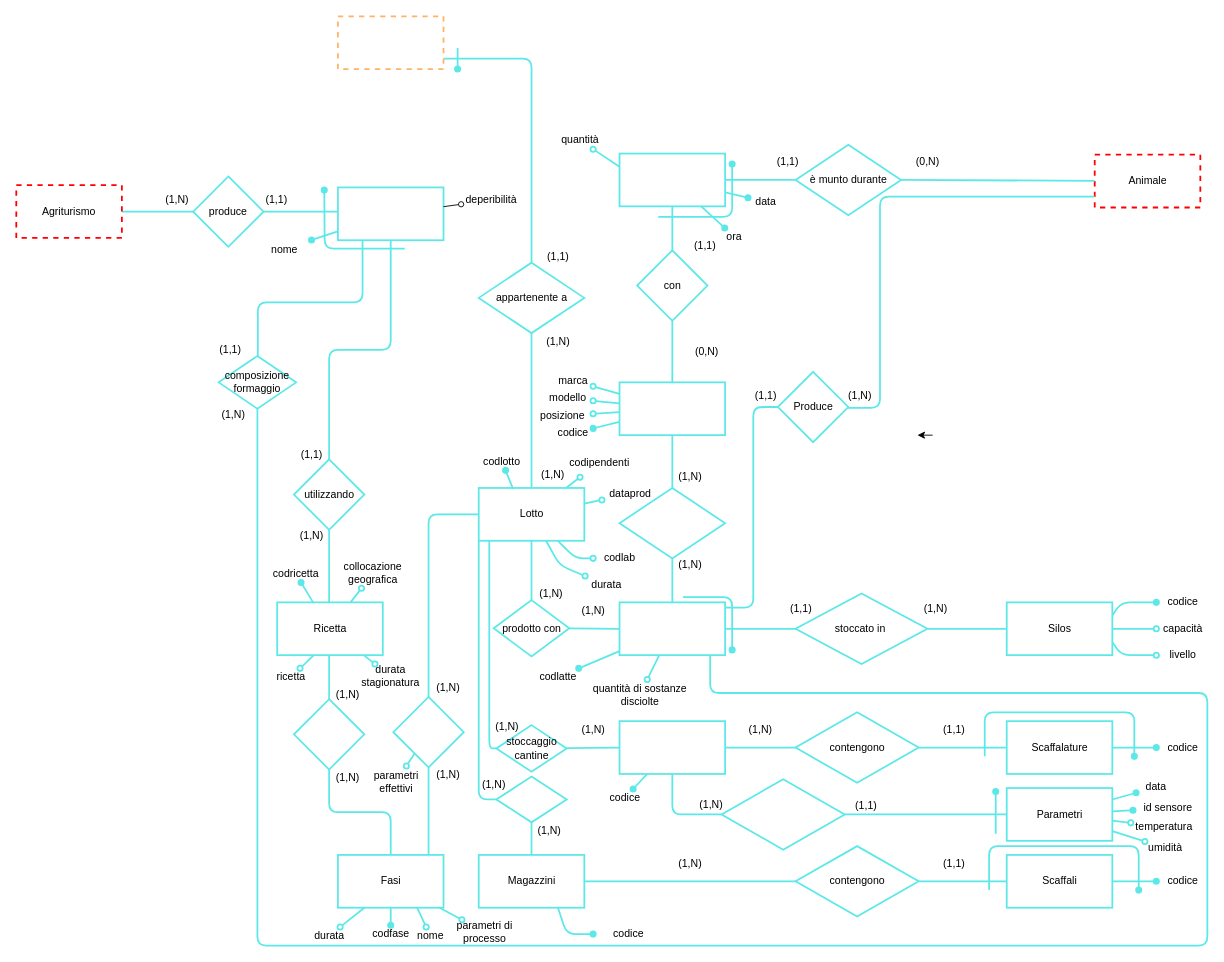
Some shapes in this 1224 by 962 pixel diagram are drawn without their labels. The shapes that lost their labels are listed below. From the top down, each one's box as (x1, y1, x2, y2) in pixels, then its label:
(337, 15, 444, 70): Formaggio Prodotto
(618, 152, 726, 207): Mungitura
(337, 186, 444, 241): Formaggio
(618, 381, 726, 436): Mungitrice
(618, 487, 726, 559): che munge
(618, 601, 726, 656): Latte
(293, 698, 365, 770): divisa in
(392, 696, 464, 768): controllo fasi
(618, 720, 726, 774): Cantine
(495, 775, 567, 823): stoccaggio magazzini
(720, 778, 845, 850): Rilievo parametri
